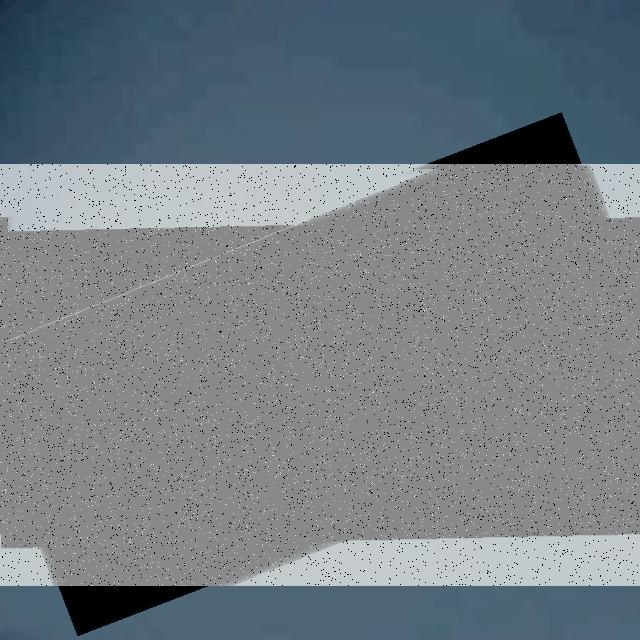dua ribu rupiah: (0, 164, 640, 586)
